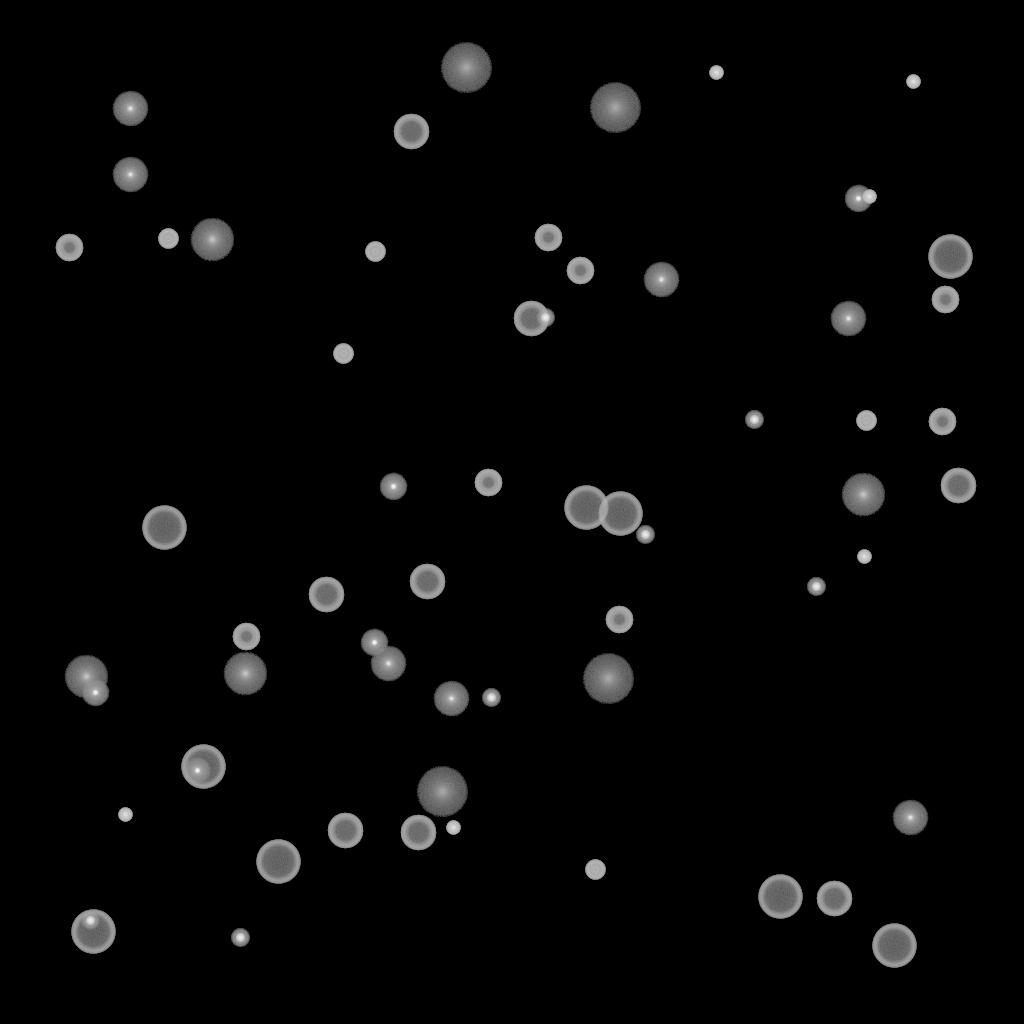depth:-10: (379, 473, 407, 501), (360, 629, 388, 657), (844, 185, 872, 213), (81, 679, 109, 707), (183, 757, 211, 785)
depth:-20: (81, 912, 99, 930), (745, 411, 763, 429), (536, 309, 554, 327), (636, 526, 654, 544), (482, 689, 500, 707), (231, 929, 249, 947), (807, 578, 825, 596)
depth:-30: (906, 75, 920, 89), (862, 190, 876, 204), (709, 66, 723, 80), (446, 821, 460, 835), (118, 808, 132, 822), (857, 550, 871, 564)
depth:-40: (333, 344, 353, 364), (585, 860, 605, 880), (856, 411, 876, 431), (365, 242, 385, 262), (158, 229, 178, 249)
depth:-50: (566, 257, 594, 285), (931, 286, 959, 314), (534, 224, 562, 252), (232, 623, 260, 651), (55, 234, 83, 262), (474, 469, 502, 497), (605, 606, 633, 634), (928, 408, 956, 436)
depth:-60: (327, 813, 363, 849), (513, 301, 549, 337), (393, 114, 429, 150), (940, 468, 976, 504), (409, 564, 445, 600), (308, 577, 344, 613), (816, 881, 852, 917), (400, 815, 436, 851)
depth:-70: (598, 492, 642, 536), (564, 486, 608, 530), (758, 875, 802, 919), (872, 924, 916, 968), (181, 745, 225, 789), (928, 235, 972, 279), (71, 910, 115, 954), (256, 840, 300, 884), (142, 506, 186, 550)
depth:0: (112, 157, 148, 193), (830, 301, 866, 337), (892, 800, 928, 836), (643, 262, 679, 298), (433, 681, 469, 717), (112, 91, 148, 127), (370, 646, 406, 682)
depth:10: (223, 652, 267, 696), (190, 218, 234, 262), (841, 473, 885, 517), (64, 655, 108, 699)
depth:20: (582, 654, 634, 704), (589, 83, 641, 133), (440, 43, 492, 93), (416, 767, 468, 817)
